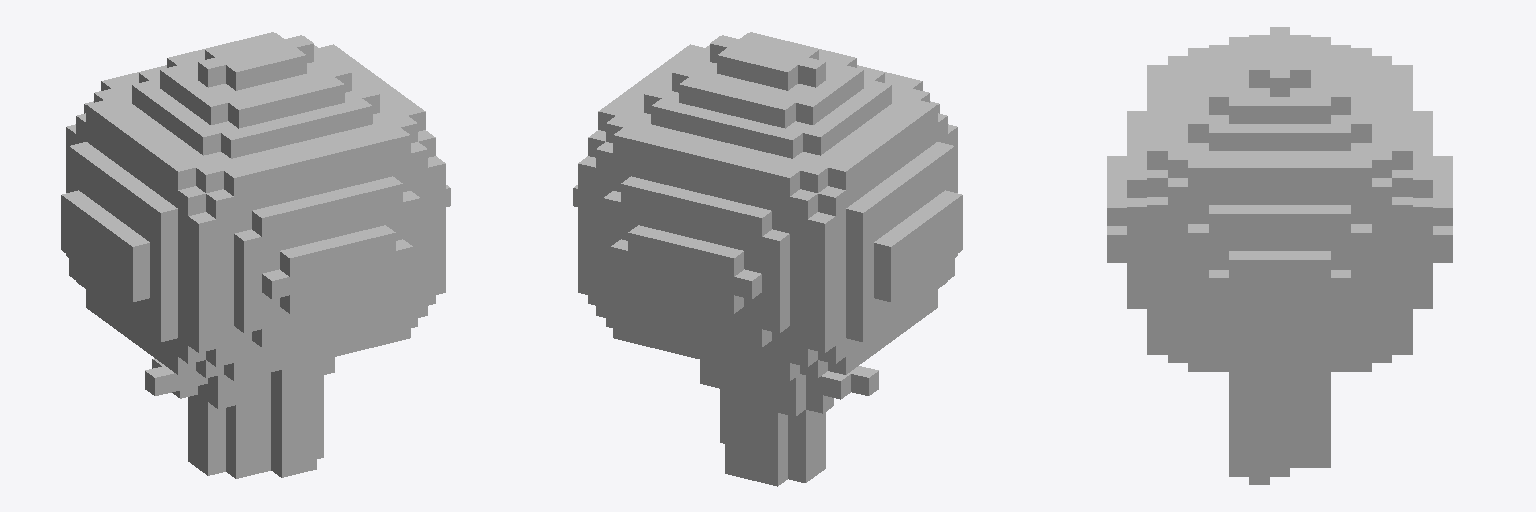
Rendered from Tree.obj.
The picture shows the model from 3 angles: view 1: azimuth 30°, elevation 25°; view 2: azimuth 150°, elevation 25°; view 3: azimuth 270°, elevation 25°; orthographic projection.
Bounding box in the file's own units: 18 × 22 × 17.